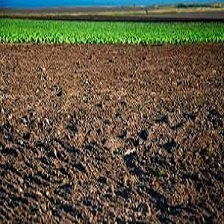loamy_soil: (12, 33, 213, 197)
